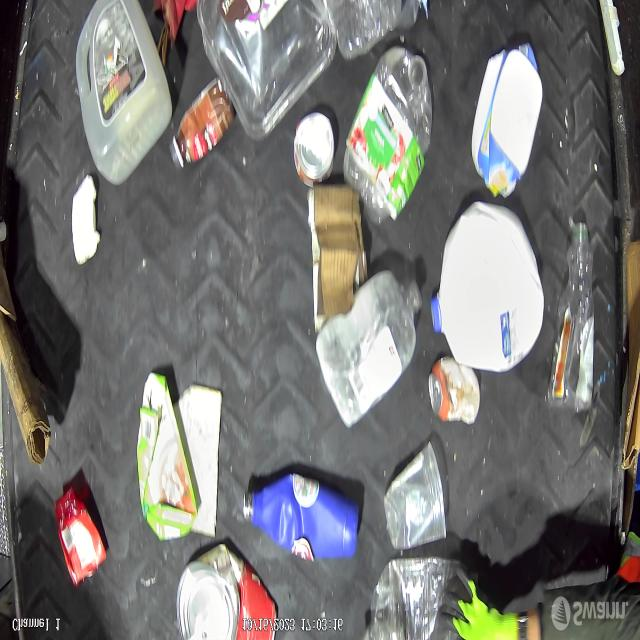can: (174, 550, 280, 640), (428, 356, 482, 426)
milk_jug: (429, 207, 542, 370)
non_white_jug: (80, 0, 164, 184)
plastic_bottle: (342, 46, 433, 228), (548, 220, 594, 417), (363, 557, 454, 640)
